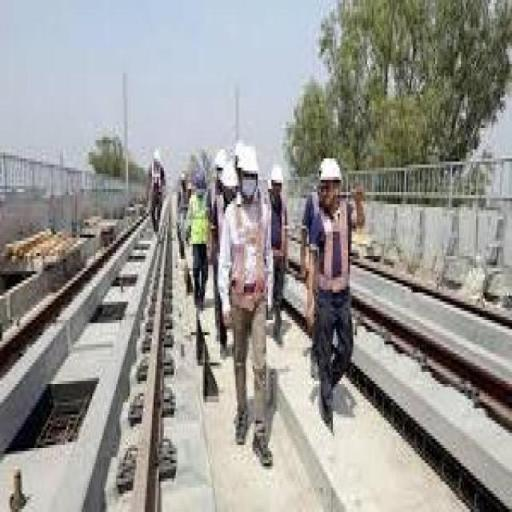helmet: (312, 150, 346, 192), (234, 137, 263, 180), (218, 158, 241, 192), (266, 158, 286, 192), (188, 164, 208, 192), (212, 141, 230, 170)
vest: (302, 195, 360, 311), (224, 189, 272, 320), (186, 192, 212, 250)
